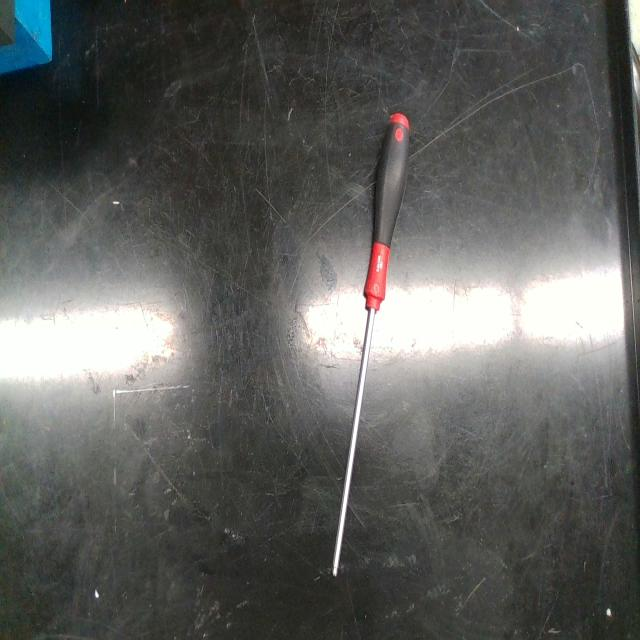Screwdriver: (332, 113, 410, 574)
